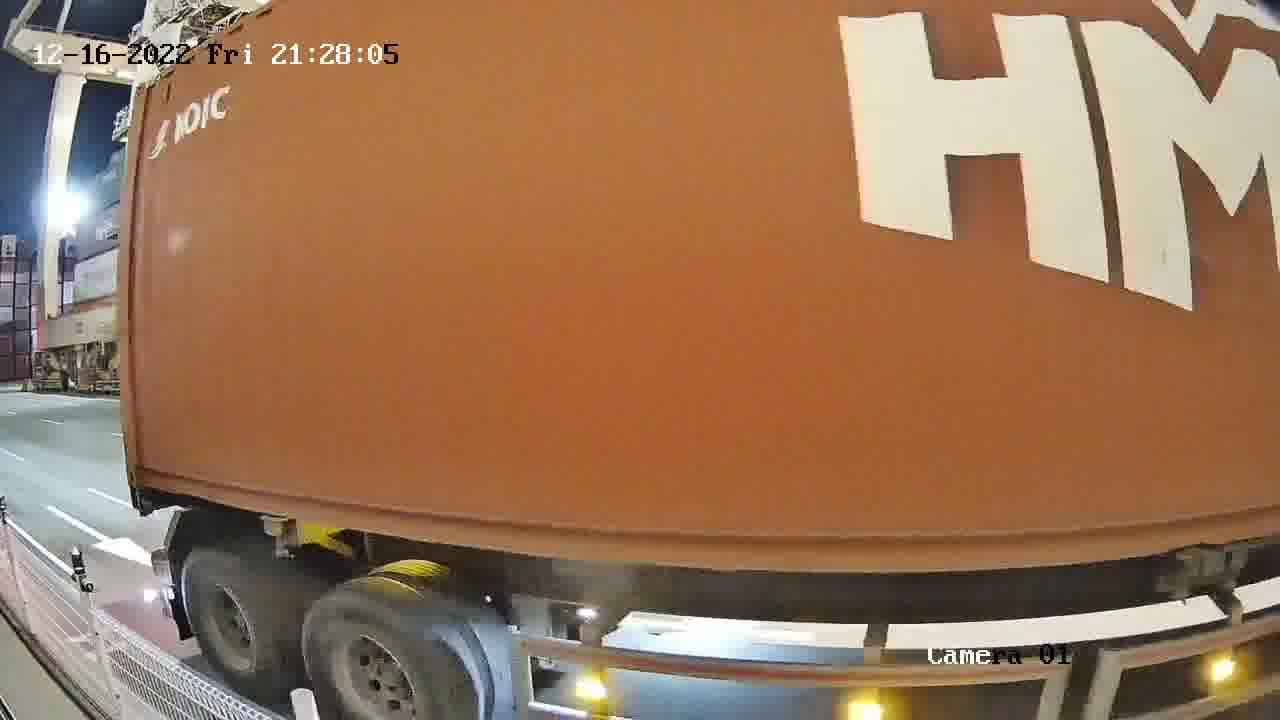Cone: (129, 482, 151, 515)
Hole_L: (126, 447, 159, 488)
Tire: (302, 588, 487, 718), (179, 553, 283, 700)
